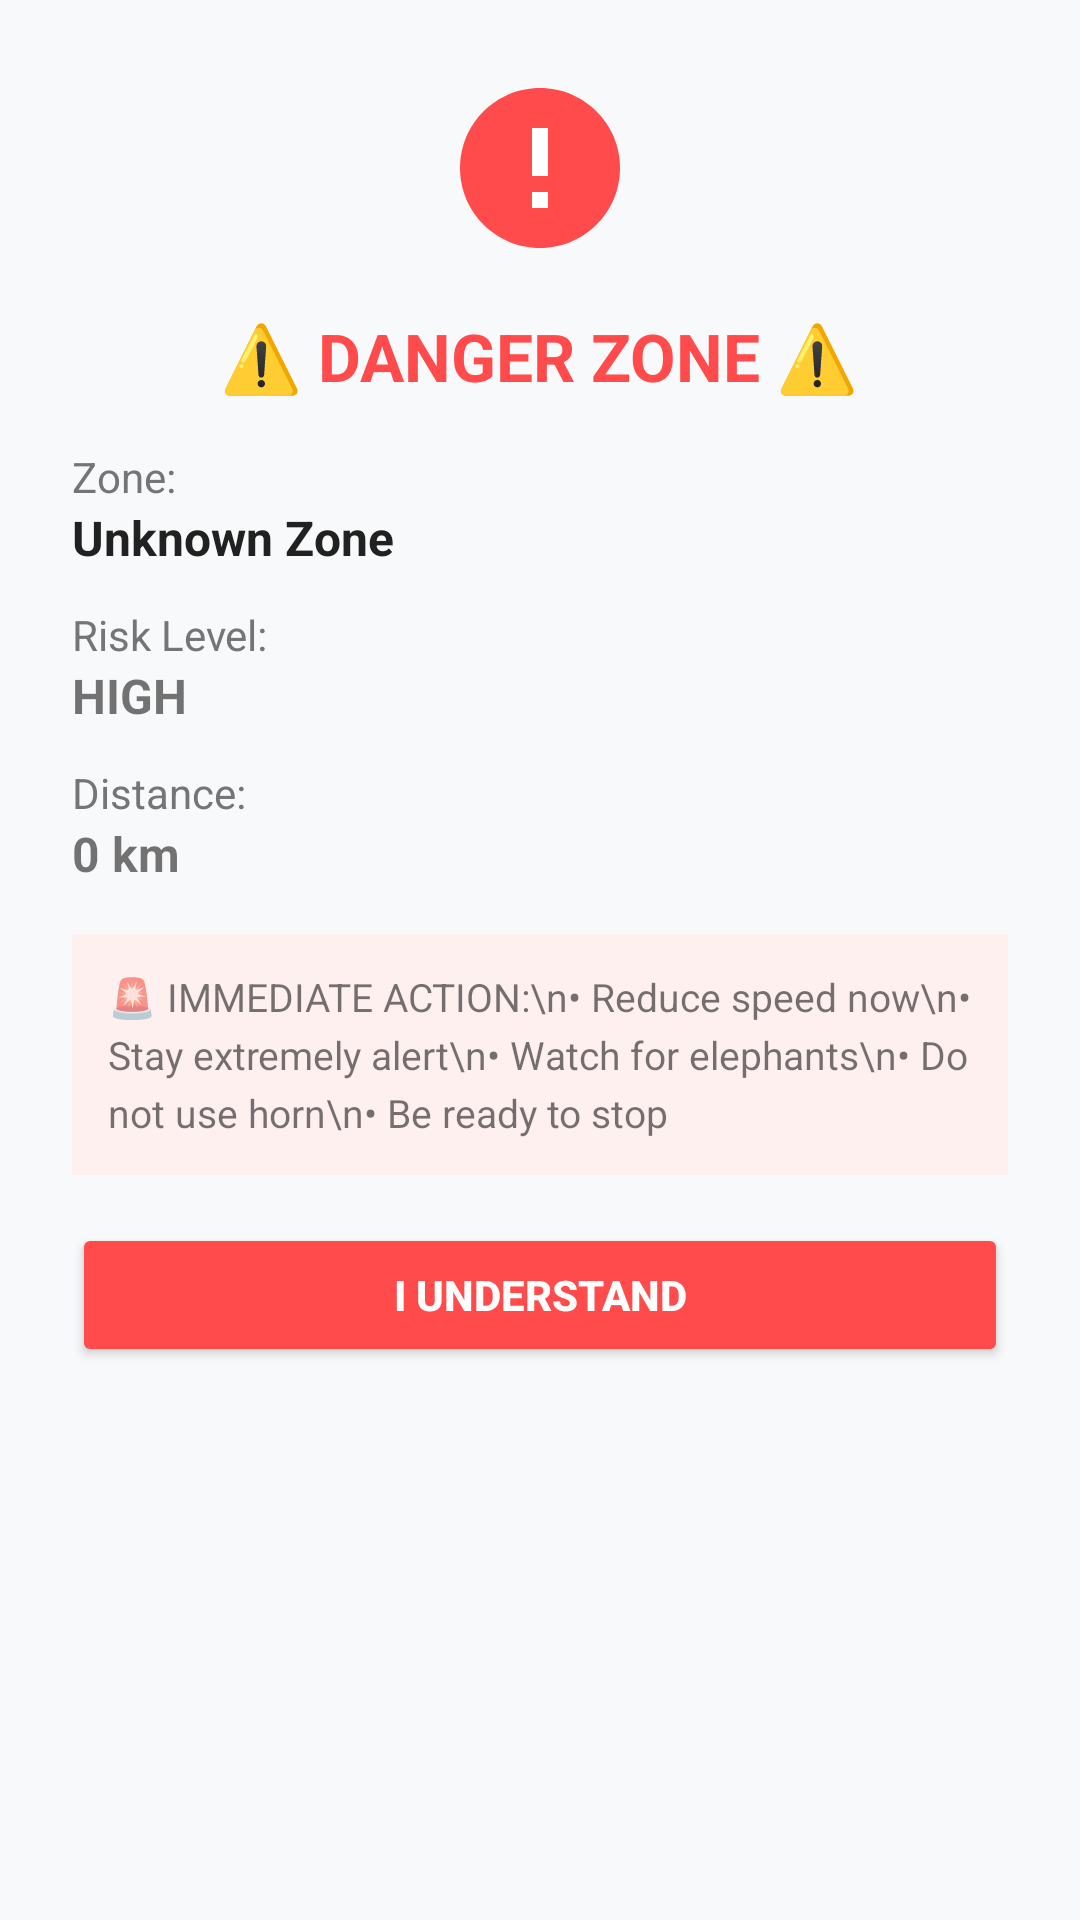

Icon bounding boxes for this 1080*1920 phone screenshot, format [x1,y1,x2,y2]:
danger alert: [460,88,620,248]
